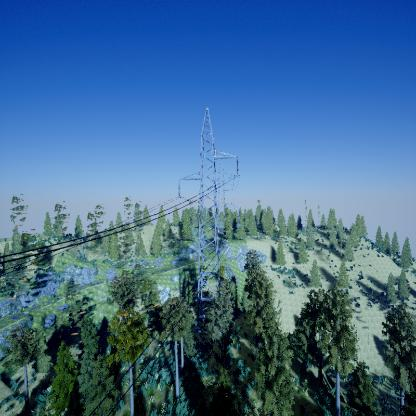tower: (175, 105, 240, 309)
